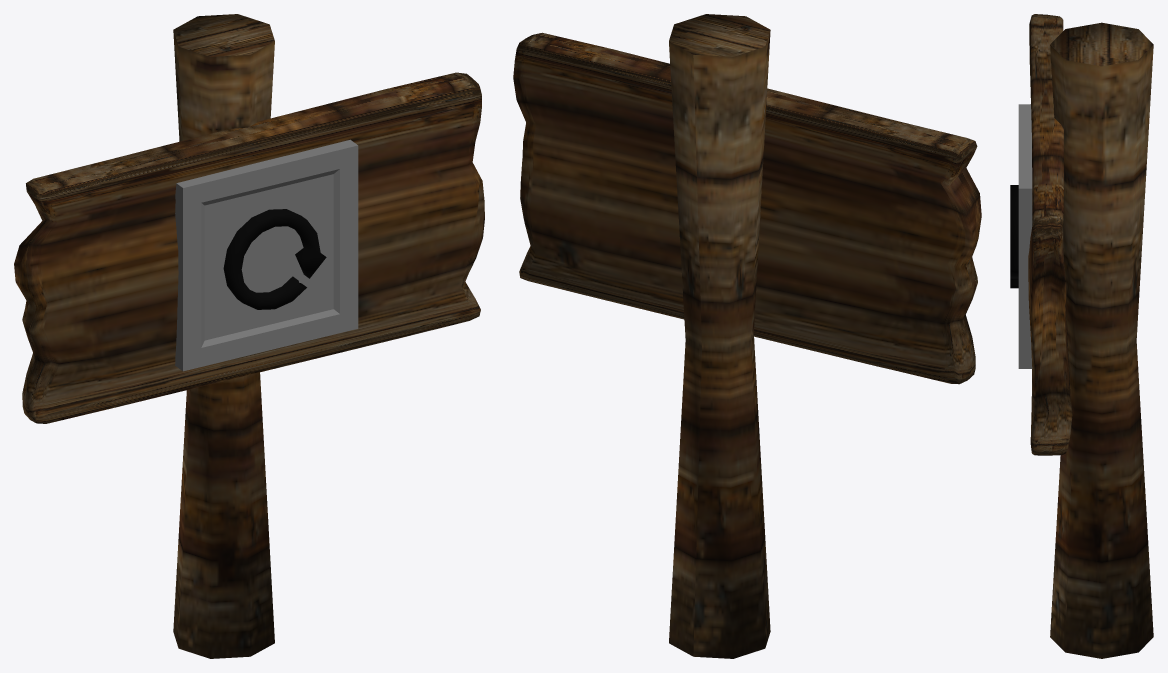
Rendered from Reset.glb.
3 views of the same model, side by side, from view 1: azimuth 30°, elevation 25°; view 2: azimuth 150°, elevation 25°; view 3: azimuth 270°, elevation 25° (orthographic).
Visible parts, largest first — view 1: Restart; view 2: Restart; view 3: Restart.
Boxes of the visible parts, box(x1,y1,x2,y2) form: Restart: box(14, 14, 484, 658); Restart: box(513, 14, 981, 658); Restart: box(1010, 14, 1153, 658).
Bounding box in the file's own units: 0.9631 × 1.21 × 0.2652.
3 materials, 1 textured.
